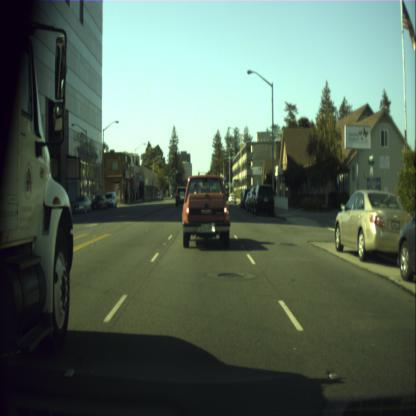Red: (198, 170, 200, 175)
